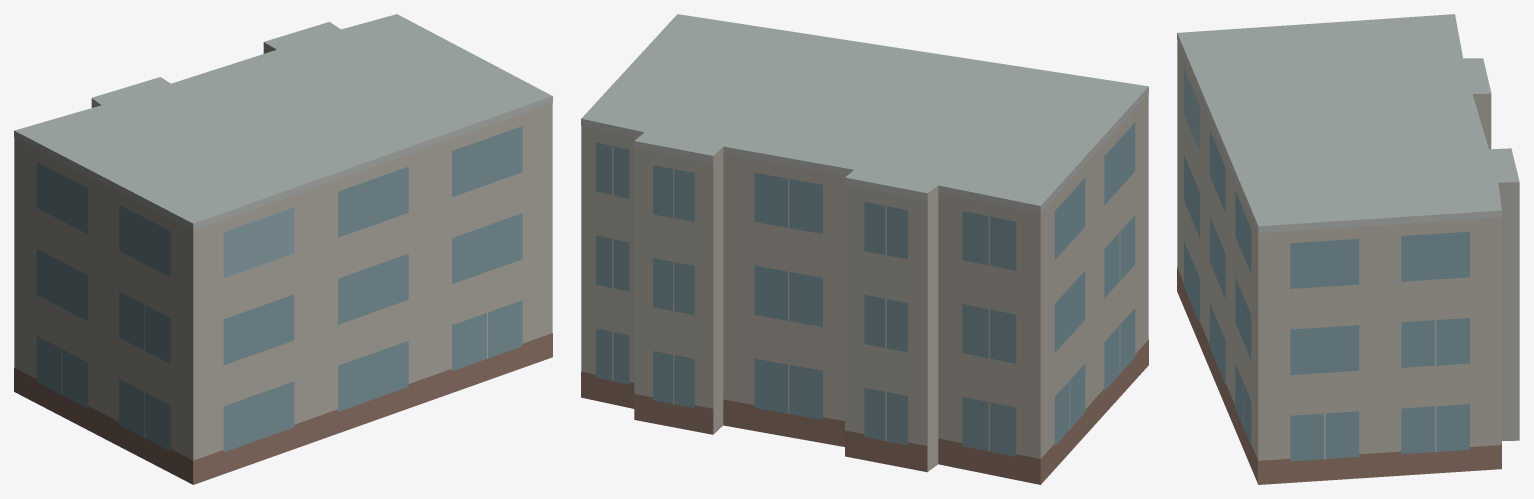
The model's file is survey-upis-32651762.glb.
3 renders of one model, left to right at view 1: azimuth 30°, elevation 25°; view 2: azimuth 150°, elevation 25°; view 3: azimuth 270°, elevation 25°, orthographic. The views are drawn at different scales.
Parts seen in each view (by area): view 1: survey-upis-32651762.tmp; view 2: survey-upis-32651762.tmp; view 3: survey-upis-32651762.tmp.
Part boxes in pixels (x1,y1,x2,y2): survey-upis-32651762.tmp: [14, 14, 552, 484]; survey-upis-32651762.tmp: [581, 14, 1148, 484]; survey-upis-32651762.tmp: [1177, 14, 1519, 484].
Bounding box in the file's own units: 16.12 × 9.15 × 10.99.
